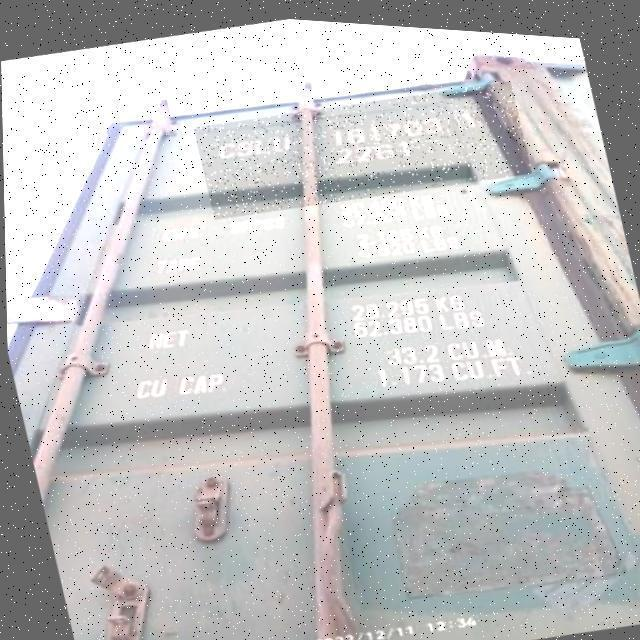container_number_h: (191, 56, 532, 233)
